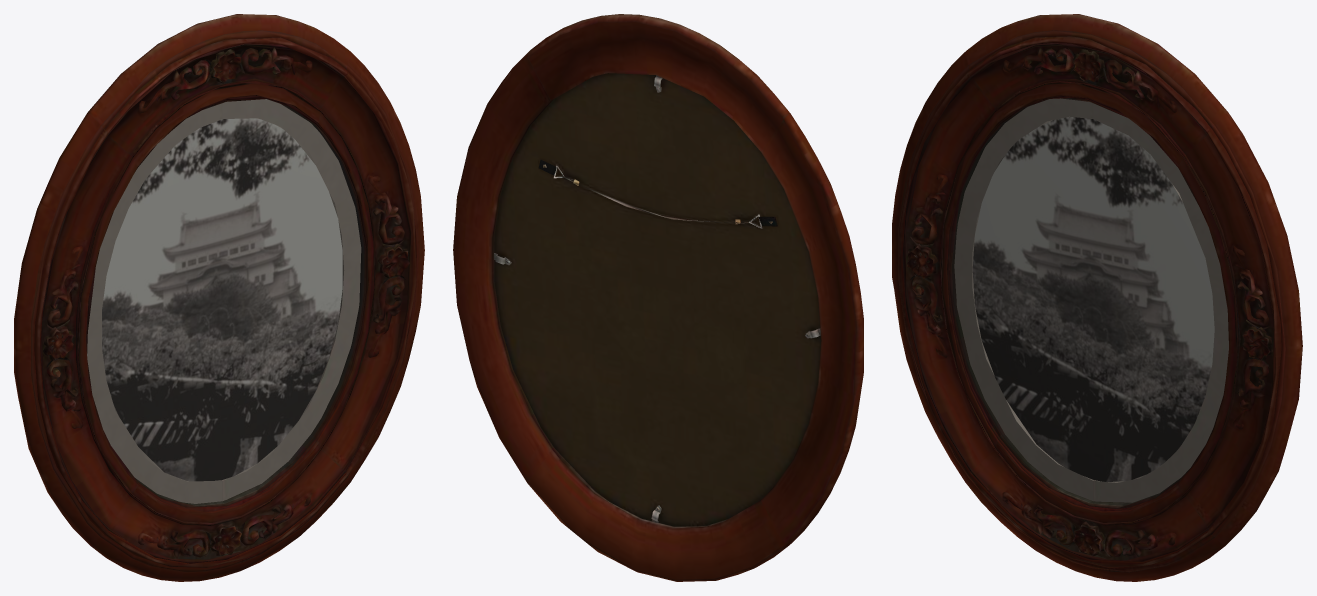
The model's file is hanging_picture_frame_03.glb.
3 views of the same model, side by side, from view 1: azimuth 30°, elevation 25°; view 2: azimuth 150°, elevation 25°; view 3: azimuth 330°, elevation 25° (orthographic).
Visible parts, largest first — view 1: hanging_picture_frame_03, hanging_picture_frame_03_glass; view 2: hanging_picture_frame_03; view 3: hanging_picture_frame_03, hanging_picture_frame_03_glass.
Part boxes in pixels (x1=…): hanging_picture_frame_03: x1=14, y1=14, x2=424, y2=581; hanging_picture_frame_03_glass: x1=87, y1=99, x2=363, y2=505; hanging_picture_frame_03: x1=453, y1=14, x2=863, y2=581; hanging_picture_frame_03: x1=892, y1=14, x2=1302, y2=581; hanging_picture_frame_03_glass: x1=952, y1=98, x2=1228, y2=505.
Size of the model in its own units: 0.3838 by 0.502 by 0.0318.
Materials: 3 (2 with a texture image).
